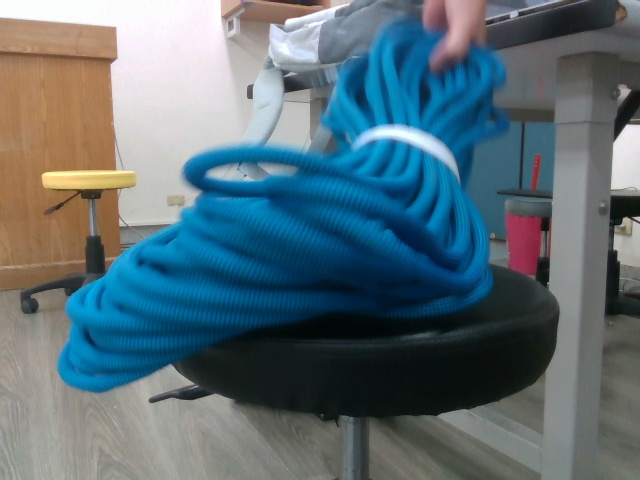rope: (56, 8, 518, 392)
